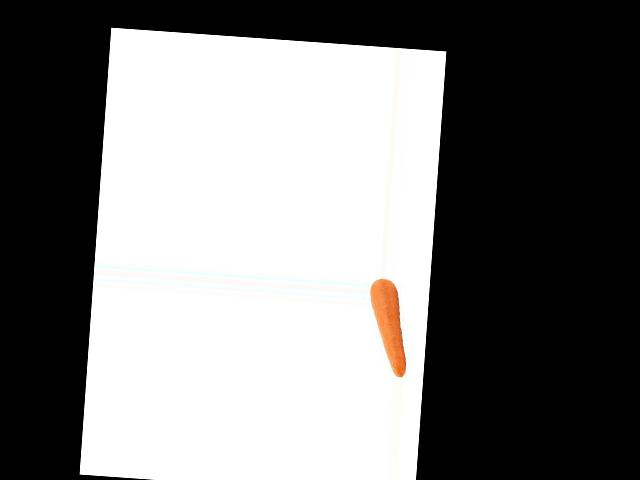carrot: (364, 277, 414, 377)
